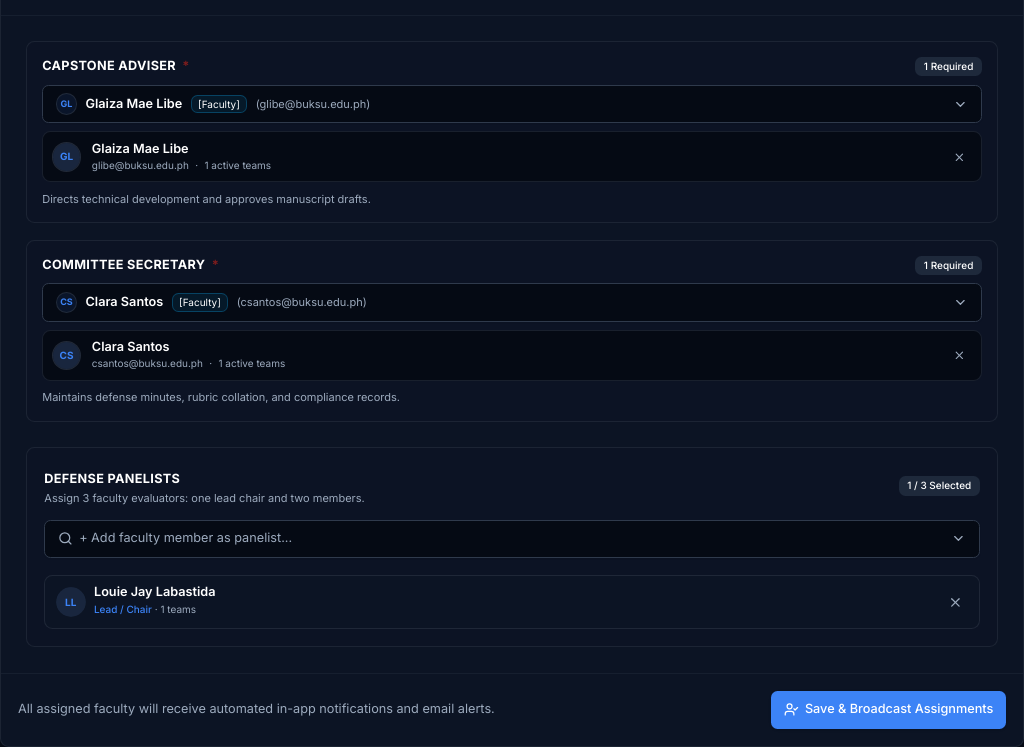
TeamCommitteeAssignmentsView UI/UX Suite › keeps course instructors out of committee appointment candidates
(page scrolled)
Click the dropdown labelled "+ Add faculty member as panelist...".
click(186, 538)  # box [44, 520, 980, 558]
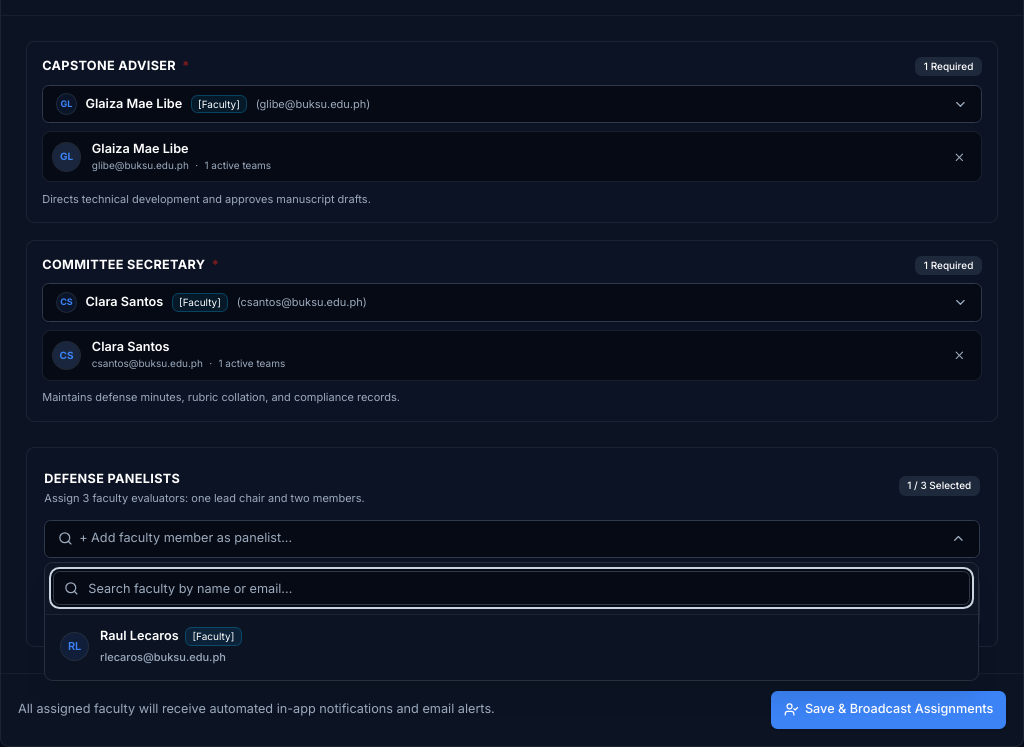
Check: the text "Raul Lecaros" is shown, box [100, 628, 179, 645]
